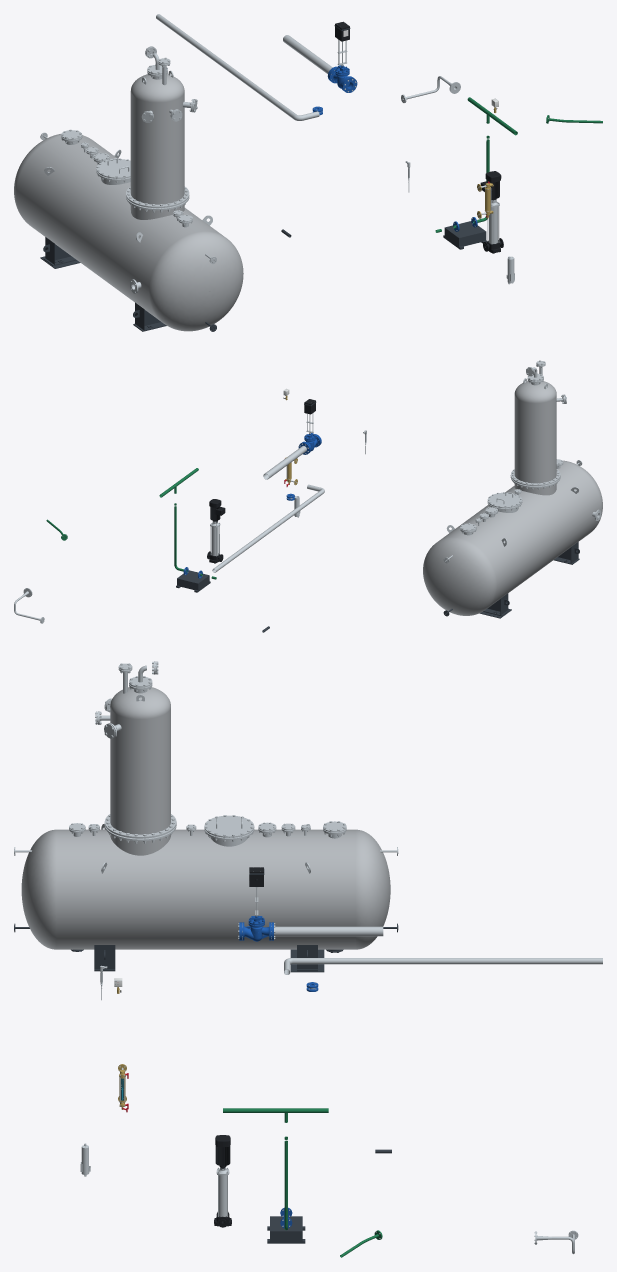
3 views of the same model, one above another, from view 1: azimuth 30°, elevation 25°; view 2: azimuth 150°, elevation 25°; view 3: azimuth 270°, elevation 25° (orthographic). The views are drawn at different scales.
Visible parts, largest first — view 1: deaerator CAD solid 56, deaerator CAD solid 257, safety_vent_2 / steel, pump_branch_2 / dark, deaerator CAD solid 408, steam_delivery / steel; view 2: deaerator CAD solid 56, deaerator CAD solid 257, safety_vent_2 / steel, pump_branch_2 / dark, deaerator CAD solid 408, steam_delivery / steel; view 3: deaerator CAD solid 56, deaerator CAD solid 257, safety_vent_2 / steel, steam_delivery / steel, pump_branch_2 / dark, deaerator CAD solid 408.
Boxes of the visible parts, x1,y1,x2,y2 form: deaerator CAD solid 56: (14, 134, 243, 331); deaerator CAD solid 257: (130, 74, 184, 204); safety_vent_2 / steel: (156, 14, 319, 120); pump_branch_2 / dark: (443, 221, 486, 249); deaerator CAD solid 408: (96, 159, 130, 178); steam_delivery / steel: (283, 35, 332, 73); deaerator CAD solid 56: (423, 460, 602, 615); deaerator CAD solid 257: (514, 381, 556, 483); safety_vent_2 / steel: (212, 484, 324, 572); pump_branch_2 / dark: (176, 570, 210, 592); deaerator CAD solid 408: (487, 492, 522, 507); steam_delivery / steel: (263, 446, 306, 479); deaerator CAD solid 56: (21, 829, 390, 949); deaerator CAD solid 257: (110, 687, 170, 834); safety_vent_2 / steel: (284, 958, 602, 974); steam_delivery / steel: (274, 926, 383, 936); pump_branch_2 / dark: (267, 1216, 305, 1243); deaerator CAD solid 408: (204, 815, 254, 837).
Size of the model in its own units: 9.07 by 4.82 by 6.97.
